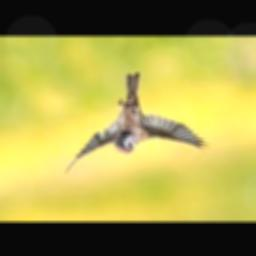Sparrow: (67, 73, 210, 174)
